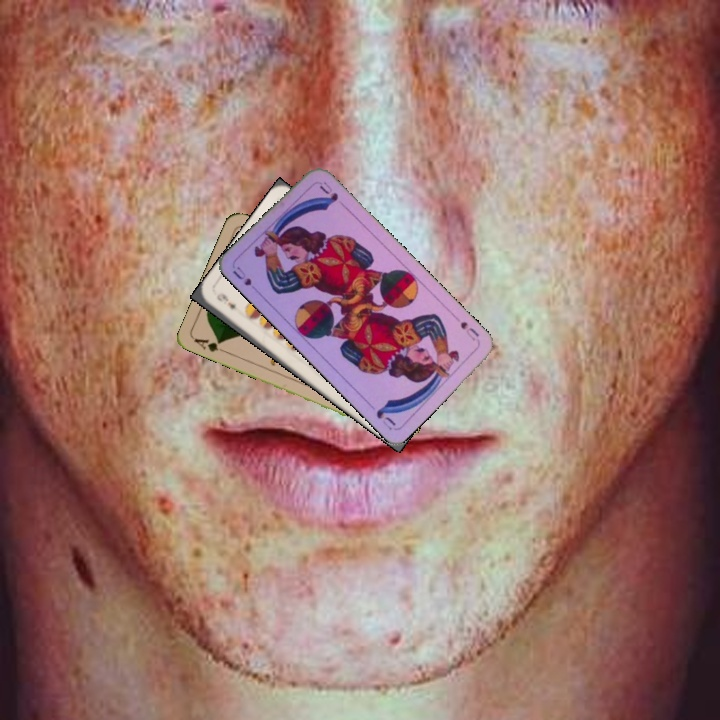E9: (212, 289, 239, 312)
GA: (190, 334, 230, 356)
SU: (229, 262, 262, 296), (450, 312, 482, 343)
